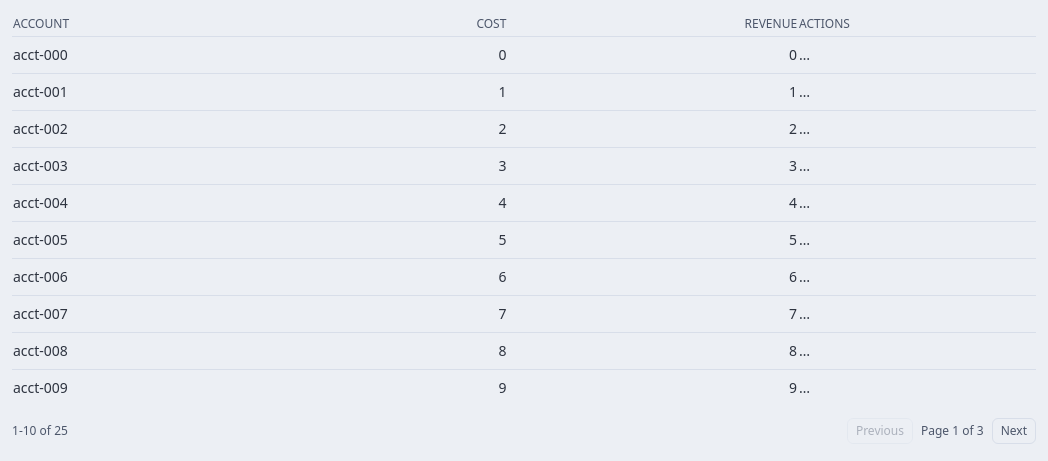
<DataTable /> › returns to page 1 when the sort changes, so the viewer sees the new top
Click the button "Next" at (1014, 431), box [992,418,1036,444]
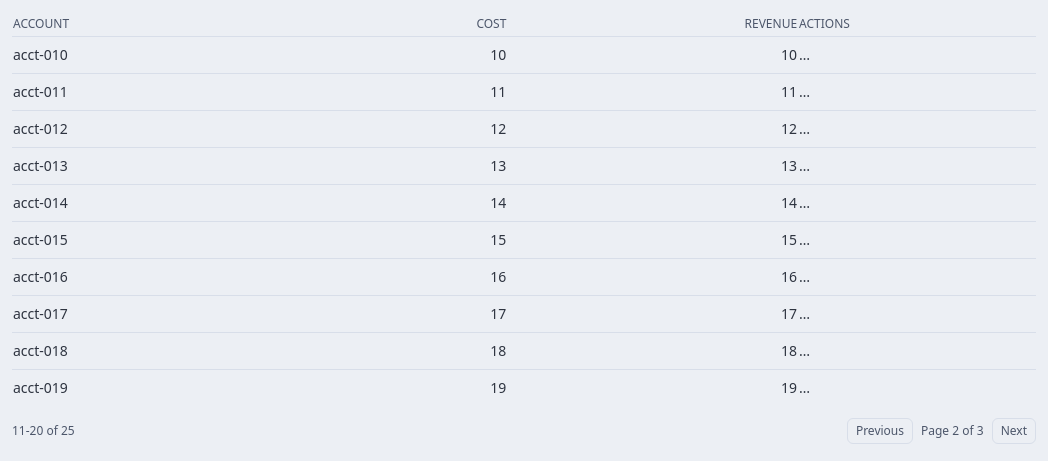
Check: the text "Page 2 of 3" is shown, box [921,423,984,439]
Click the button "Cost" at (486, 24), box [466,16,506,32]
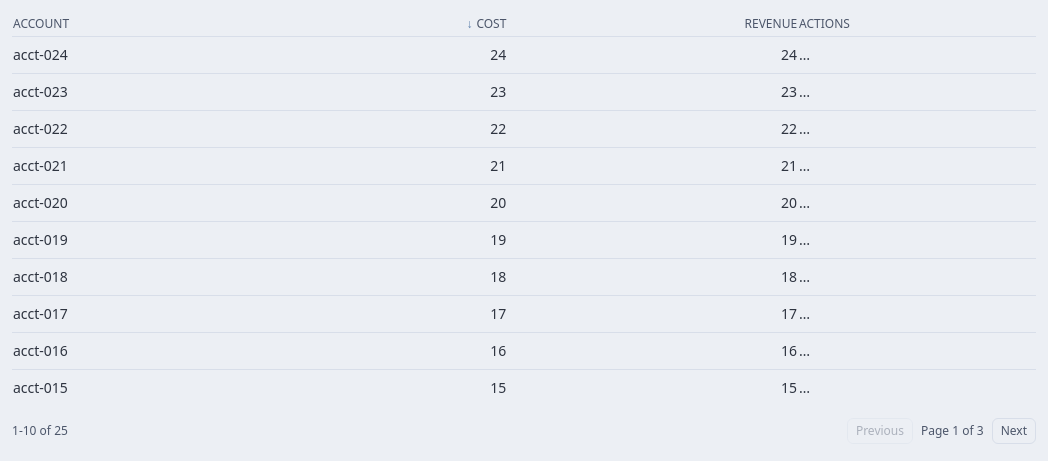
Check: the text "Page 1 of 3" is shown, box [921,423,984,439]
